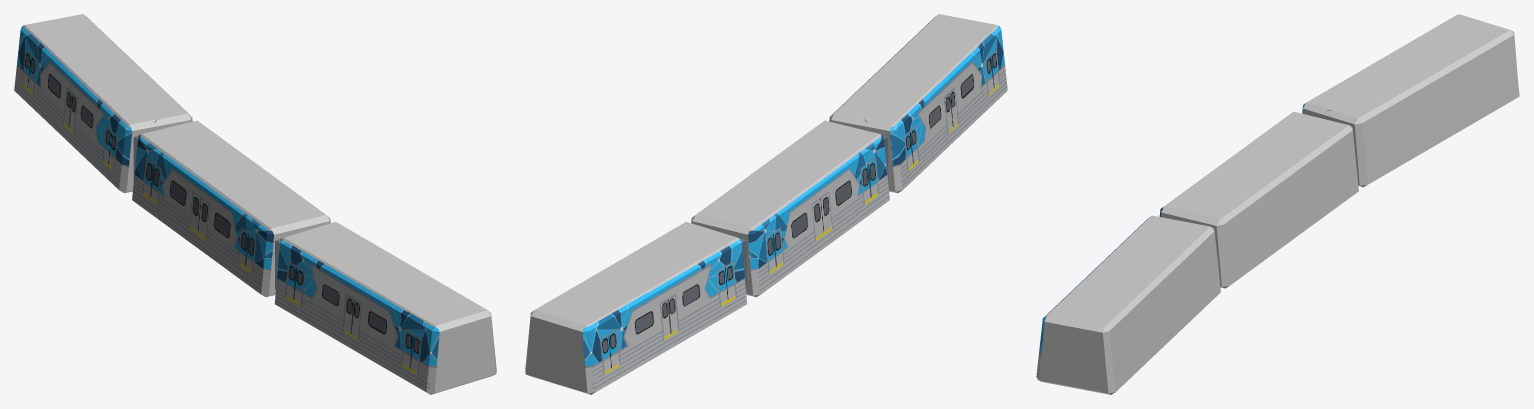
File: Train.glb
3 views of the same model, side by side, from view 1: azimuth 30°, elevation 25°; view 2: azimuth 150°, elevation 25°; view 3: azimuth 330°, elevation 25° (orthographic).
Visible parts, largest first — view 1: Sphere.001; view 2: Sphere.001; view 3: Sphere.001.
Part boxes in pixels (<box>): Sphere.001: <box>14,14,496,394</box>; Sphere.001: <box>525,14,1007,394</box>; Sphere.001: <box>1036,14,1519,394</box>.
Bounding box in the file's own units: 1.4 × 0.9159 × 10.27.
2 materials, 1 textured.
